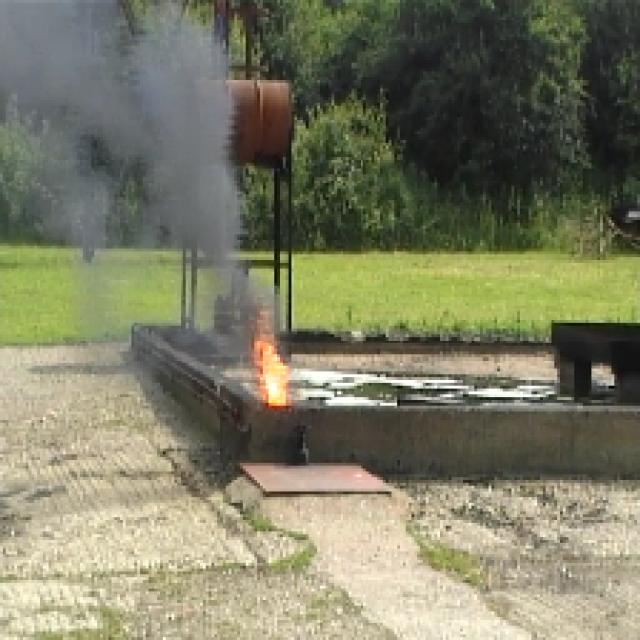fire: (242, 344, 298, 414)
smoke: (0, 8, 220, 195), (195, 212, 236, 267)
